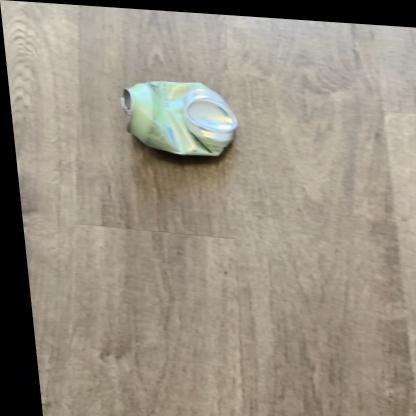trash: (122, 81, 237, 155)
